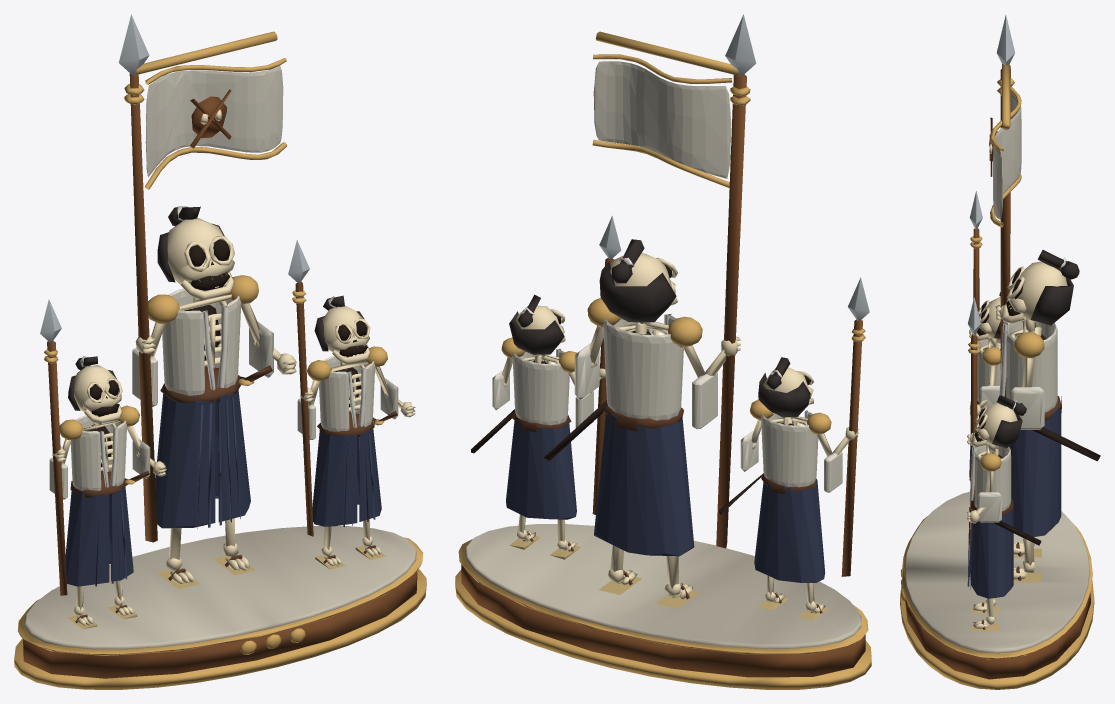
File: samurai_knight_l3.glb
3 renders of one model, left to right at view 1: azimuth 30°, elevation 25°; view 2: azimuth 150°, elevation 25°; view 3: azimuth 270°, elevation 25°, orthographic. The views are drawn at different scales.
Parts seen in each view (by area): view 1: FixedDetails, WoodBody, BrassTrim; view 2: FixedDetails, WoodBody, BrassTrim; view 3: FixedDetails, WoodBody, BrassTrim.
Boxes of the visible parts, x1,y1,x2,y2 form: FixedDetails: [23, 14, 417, 678]; WoodBody: [24, 65, 416, 649]; BrassTrim: [14, 31, 426, 689]; FixedDetails: [461, 14, 869, 677]; WoodBody: [465, 61, 861, 648]; BrassTrim: [455, 31, 871, 689]; FixedDetails: [905, 15, 1100, 679]; WoodBody: [904, 92, 1089, 653]; BrassTrim: [900, 64, 1094, 689].
Size of the model in its own units: 0.5109 by 0.7716 by 0.2528.
